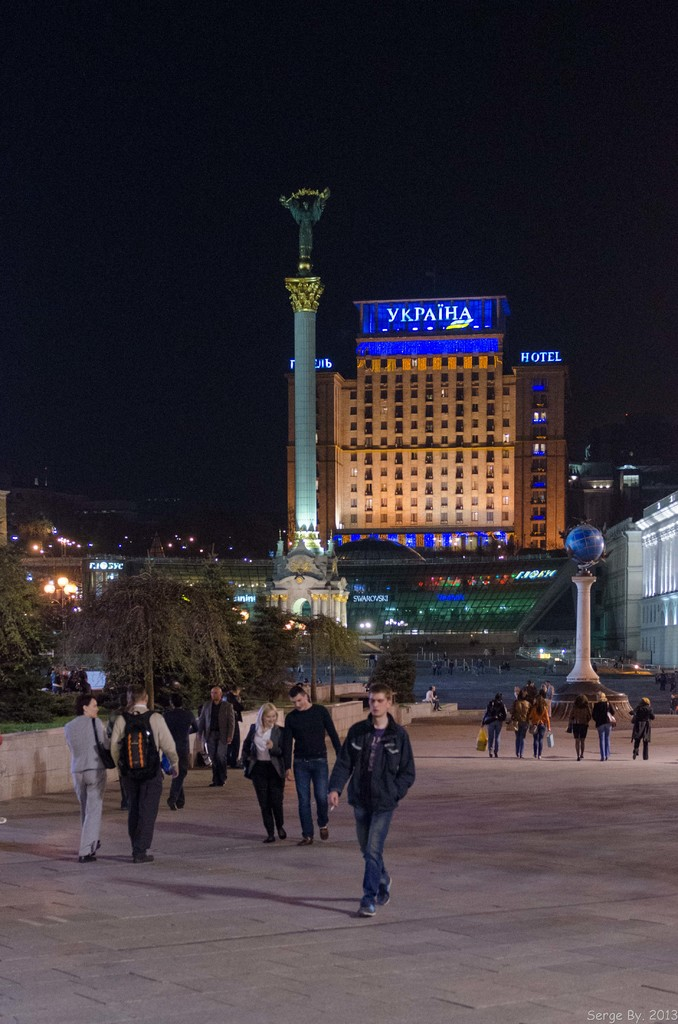Footwear: (374, 874, 388, 904), (357, 899, 376, 916), (321, 827, 334, 843), (299, 836, 313, 846), (131, 855, 152, 860), (77, 855, 90, 862), (264, 836, 274, 844), (280, 827, 285, 843)
